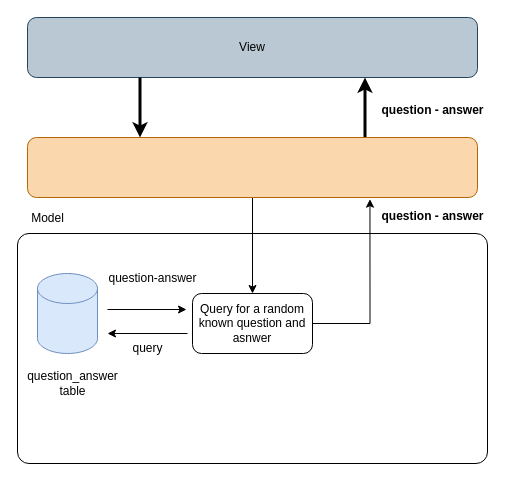
This 515x481 diagram has some shape labels left out. Each missing label, with the centre of its shape:
"Controller - ask action" goes at (252,167).
"DB" goes at (67,313).
